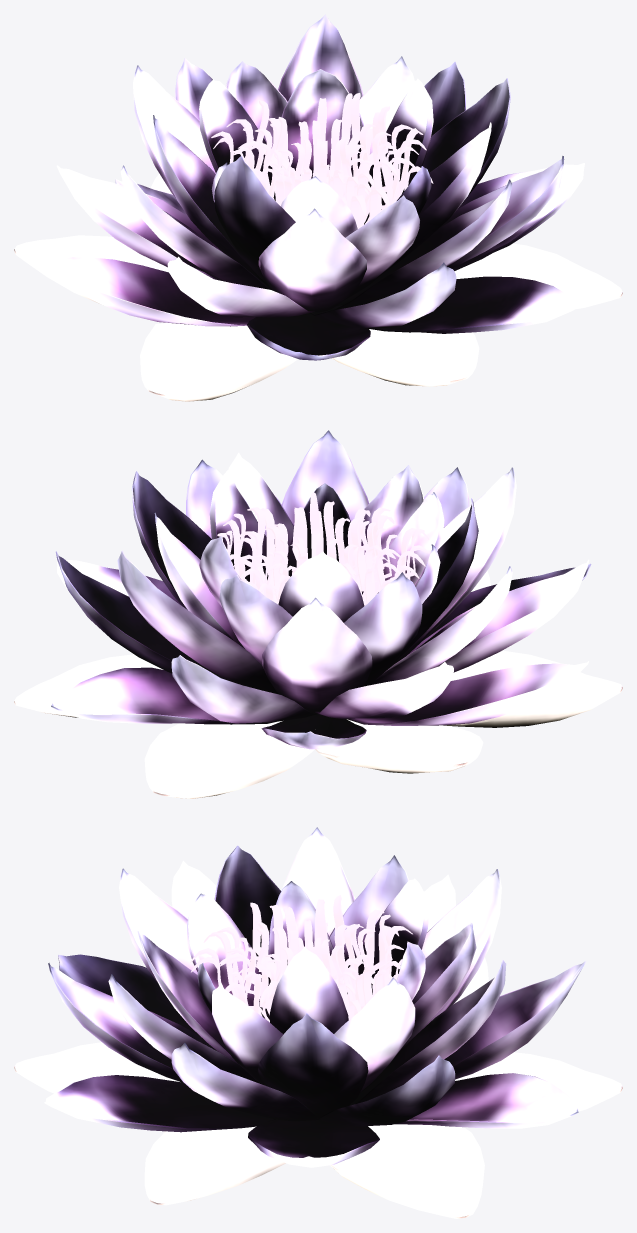
File: siam.glb
3 renders of one model, top to bottom at view 1: azimuth 30°, elevation 25°; view 2: azimuth 150°, elevation 25°; view 3: azimuth 270°, elevation 25°, orthographic.
Bounding box in the file's own units: 0.1974 × 0.0775 × 0.1932.
Materials: 1 (1 with a texture image).
